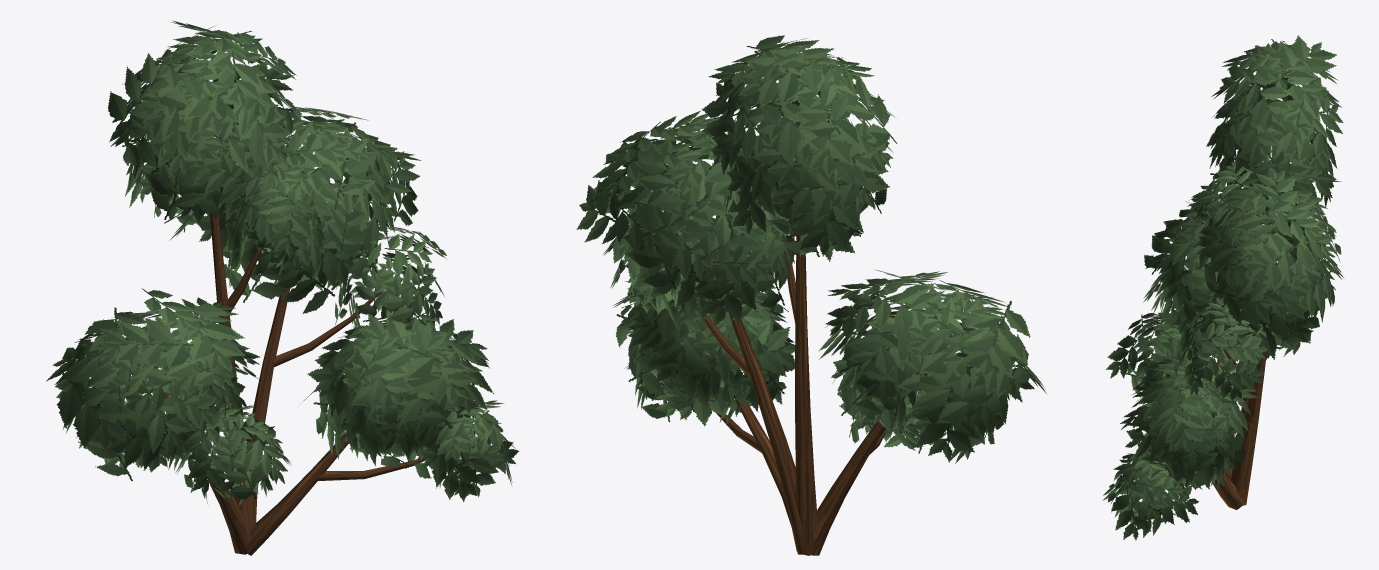
Rendered from hazel_tall.glb.
3 views of the same model, side by side, from view 1: azimuth 30°, elevation 25°; view 2: azimuth 150°, elevation 25°; view 3: azimuth 270°, elevation 25° (orthographic). The views are drawn at different scales.
Parts seen in each view (by area): view 1: hazel_tall; view 2: hazel_tall; view 3: hazel_tall.
Part boxes in pixels (<box>): hazel_tall: <box>46,20,519,555</box>; hazel_tall: <box>576,35,1046,555</box>; hazel_tall: <box>1102,35,1344,540</box>.
Bounding box in the file's own units: 1.67 × 1.8 × 0.9506.
2 materials, 2 textured.
